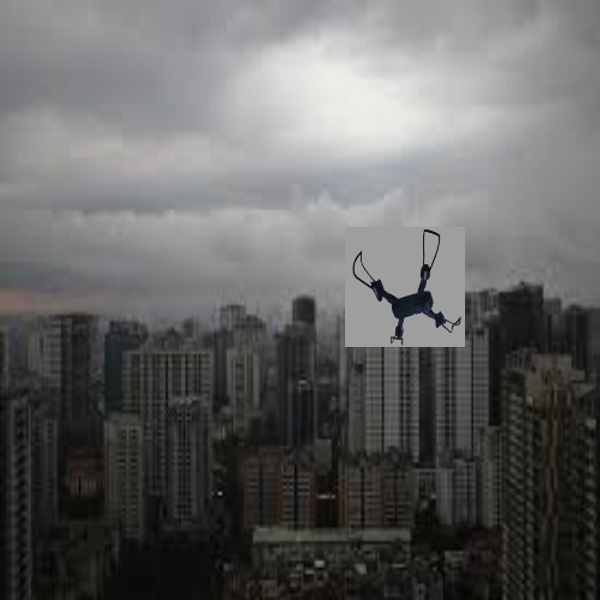drone: (347, 229, 464, 348)
